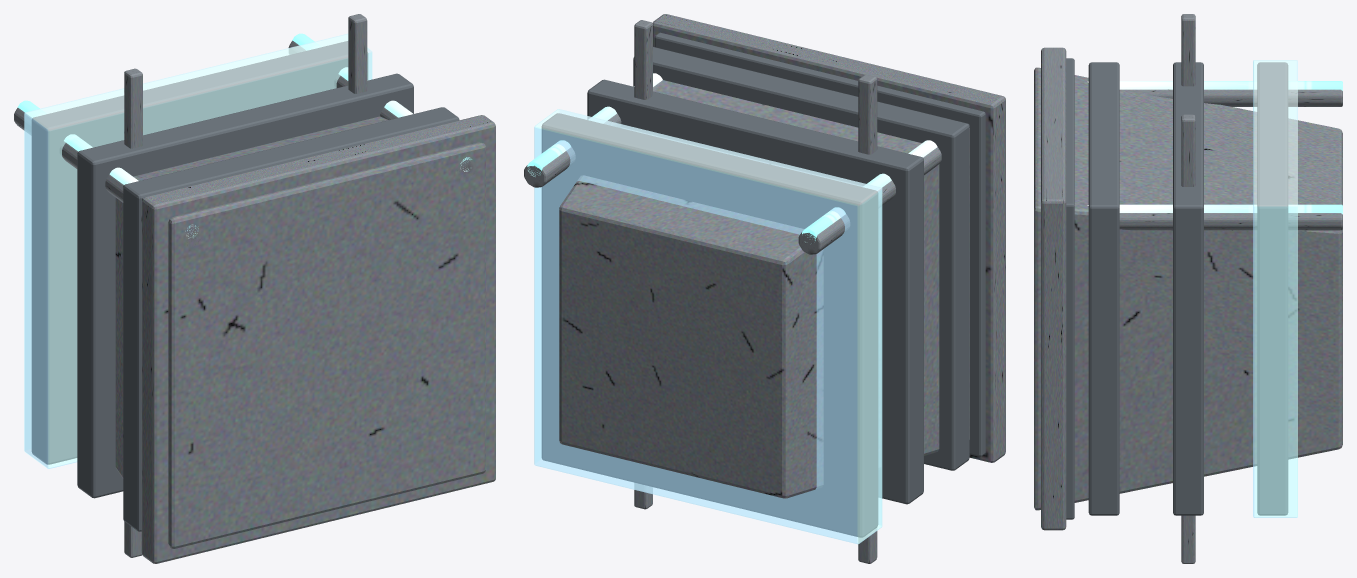
File: tower_tier.glb
3 views of the same model, side by side, from view 1: azimuth 30°, elevation 25°; view 2: azimuth 150°, elevation 25°; view 3: azimuth 270°, elevation 25° (orthographic). The views are drawn at different scales.
Parts seen in each view (by area): view 1: TierShaft, TierGlazing, TierPanel2, TierRing, TierPanel1, TierPanel0, TierStrut0, TierStrut1, TierConduit-10, TierConduitE-10, TierConduitE10, TierConduit10; view 2: TierShaft, TierGlazing, TierPanel2, TierPanel1, TierPanel0, TierRing, TierRing2, TierConduit-10, TierStrut1, TierStrut0, TierConduit10, TierConduitE-10 (+1 smaller); view 3: TierShaft, TierGlazing, TierPanel0, TierPanel2, TierPanel1, TierRing, TierRing2, TierConduit10, TierConduit-10, TierConduitE-10, TierConduitE10, TierStrut1 (+2 smaller).
Boxes of the visible parts, <box> form: TierShaft: <box>115,116,485,548</box>; TierGlazing: <box>24,33,372,468</box>; TierPanel2: <box>31,41,368,464</box>; TierRing: <box>141,115,495,563</box>; TierPanel1: <box>77,73,413,498</box>; TierPanel0: <box>123,107,459,531</box>; TierStrut0: <box>348,14,367,93</box>; TierStrut1: <box>124,68,142,148</box>; TierConduit-10: <box>14,108,201,247</box>; TierConduitE-10: <box>17,100,198,238</box>; TierConduitE10: <box>292,33,471,171</box>; TierConduit10: <box>288,40,476,179</box>; TierShaft: <box>559,80,969,498</box>; TierGlazing: <box>534,109,882,544</box>; TierPanel2: <box>541,113,878,537</box>; TierPanel1: <box>587,79,923,504</box>; TierPanel0: <box>633,47,969,470</box>; TierRing: <box>652,14,1005,462</box>; TierRing2: <box>654,32,985,456</box>; TierConduit-10: <box>798,147,941,254</box>; TierStrut1: <box>858,74,877,154</box>; TierStrut0: <box>634,20,652,99</box>; TierConduit10: <box>524,80,662,187</box>; TierConduitE-10: <box>802,140,937,242</box>; TierShaft: <box>1034,67,1342,510</box>; TierGlazing: <box>1253,60,1297,517</box>; TierPanel0: <box>1088,62,1119,515</box>; TierPanel2: <box>1257,62,1288,515</box>; TierPanel1: <box>1173,62,1203,515</box>; TierRing: <box>1041,47,1066,530</box>; TierRing2: <box>1066,58,1074,519</box>; TierConduit10: <box>1119,213,1342,230</box>; TierConduit-10: <box>1120,89,1342,106</box>; TierConduitE-10: <box>1087,81,1342,90</box>; TierConduitE10: <box>1087,204,1342,214</box>; TierStrut1: <box>1181,14,1195,86</box>.
Bounding box in the file's own units: 13 × 17.49 × 11.
Materials: 4 (2 with a texture image).
